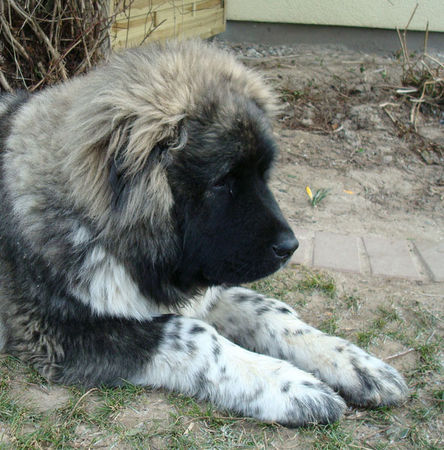cau_ovcharka: (0, 34, 410, 428)
